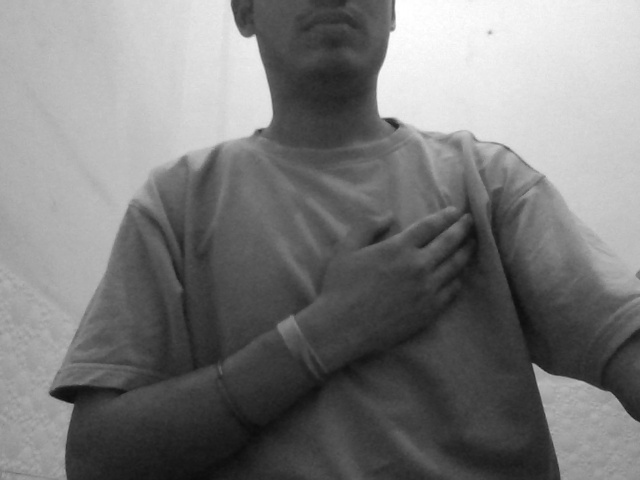Sorry: (283, 177, 506, 355)
